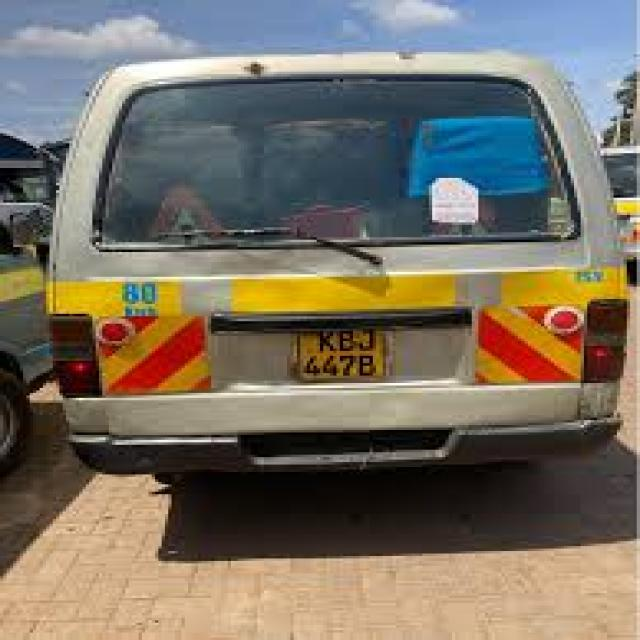matatu: (20, 12, 638, 516)
